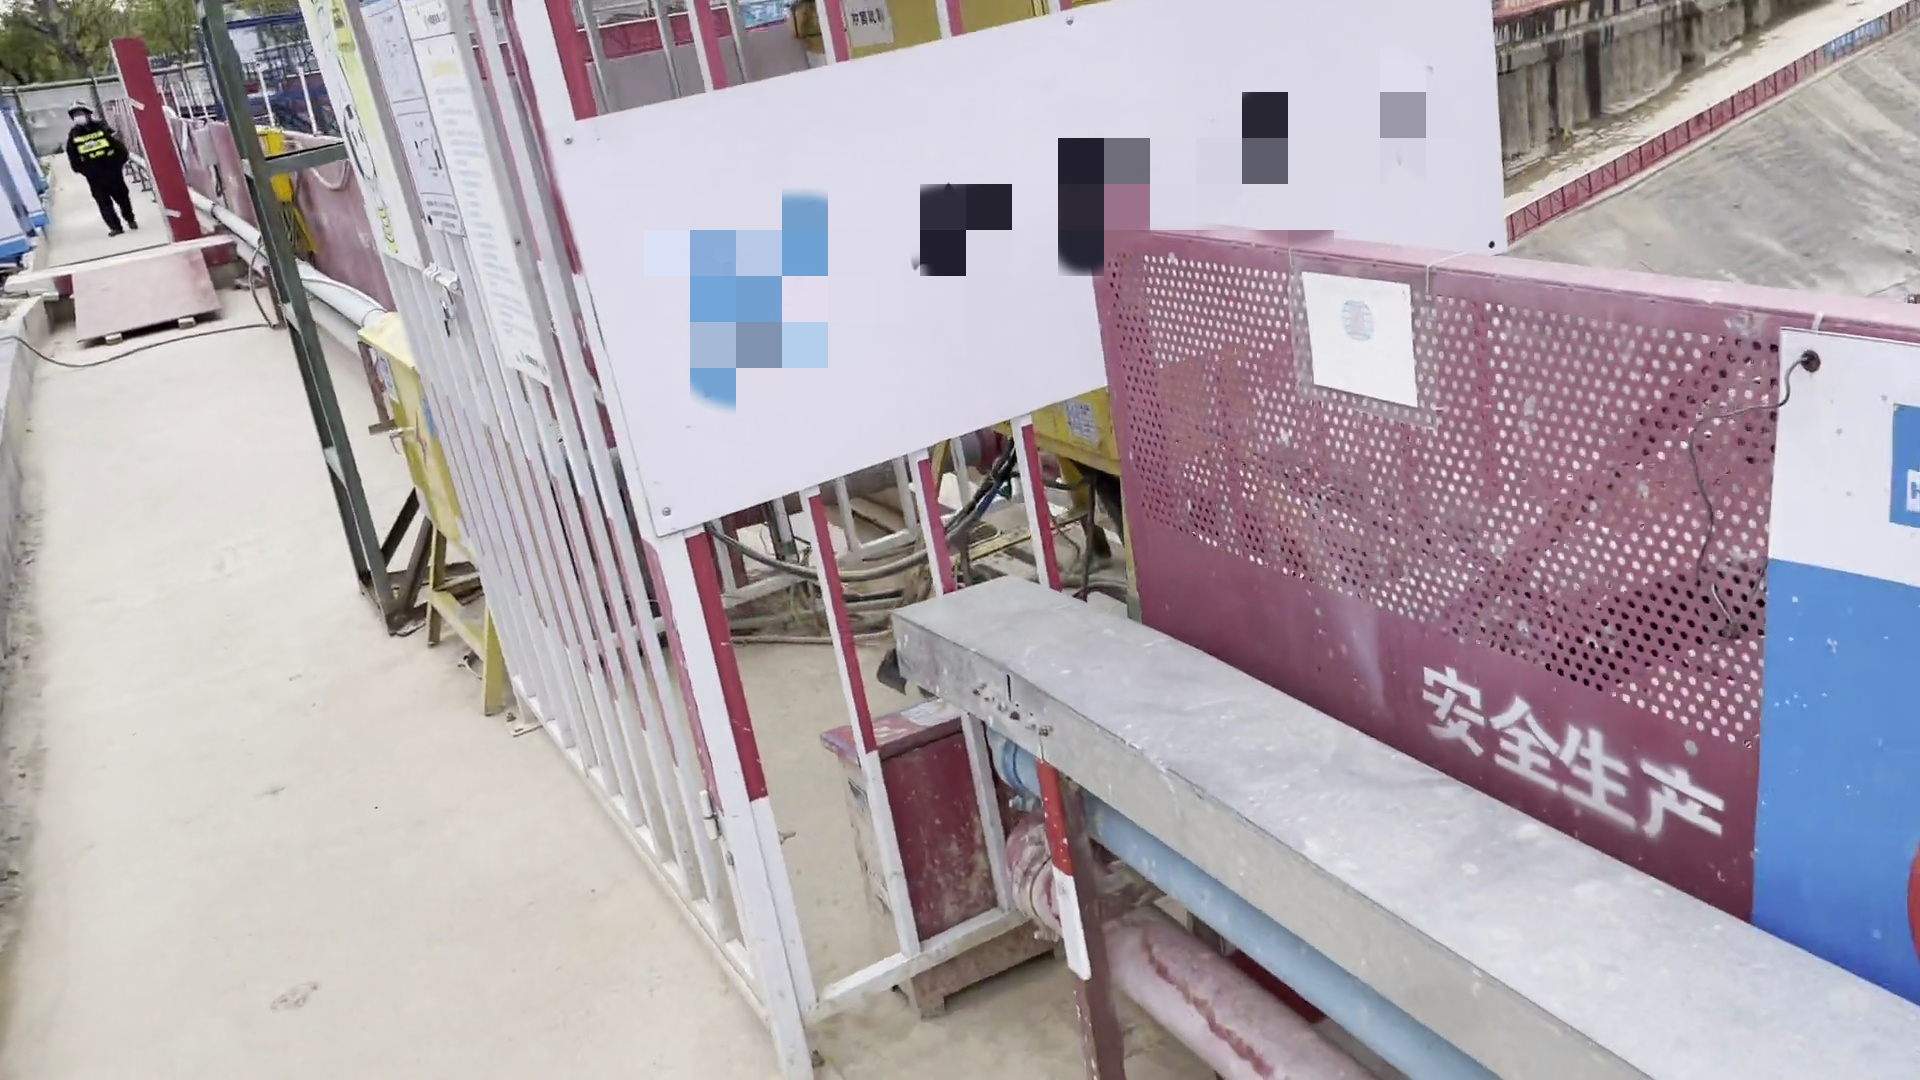board: (64, 243, 237, 353)
ebox: (833, 1, 1122, 496), (335, 297, 533, 716), (241, 116, 299, 216)
fence: (1095, 231, 1920, 1015), (172, 124, 399, 312), (1507, 105, 1684, 241)
helmet: (63, 92, 101, 116)
person: (56, 93, 142, 242)
slogan: (546, 11, 1573, 555), (1733, 307, 1918, 1016), (306, 5, 563, 370)
vest: (59, 126, 125, 177)
